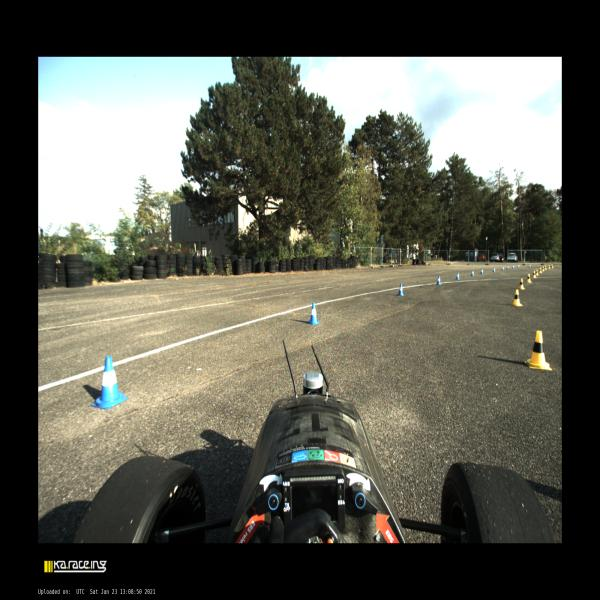blue_cone: (91, 356, 129, 409), (309, 302, 320, 325), (396, 283, 404, 296), (436, 276, 442, 285), (456, 272, 459, 280), (480, 268, 483, 274), (471, 270, 474, 276), (506, 265, 509, 269), (493, 267, 495, 272), (512, 264, 514, 269), (502, 266, 504, 270), (518, 264, 520, 268), (529, 264, 530, 267)
yellow_cone: (524, 330, 552, 370), (513, 289, 523, 307), (518, 278, 526, 290), (527, 274, 532, 283), (532, 271, 536, 278), (539, 267, 543, 273), (536, 268, 539, 276), (542, 266, 545, 272), (544, 265, 547, 270), (548, 264, 550, 270), (551, 264, 554, 268)
